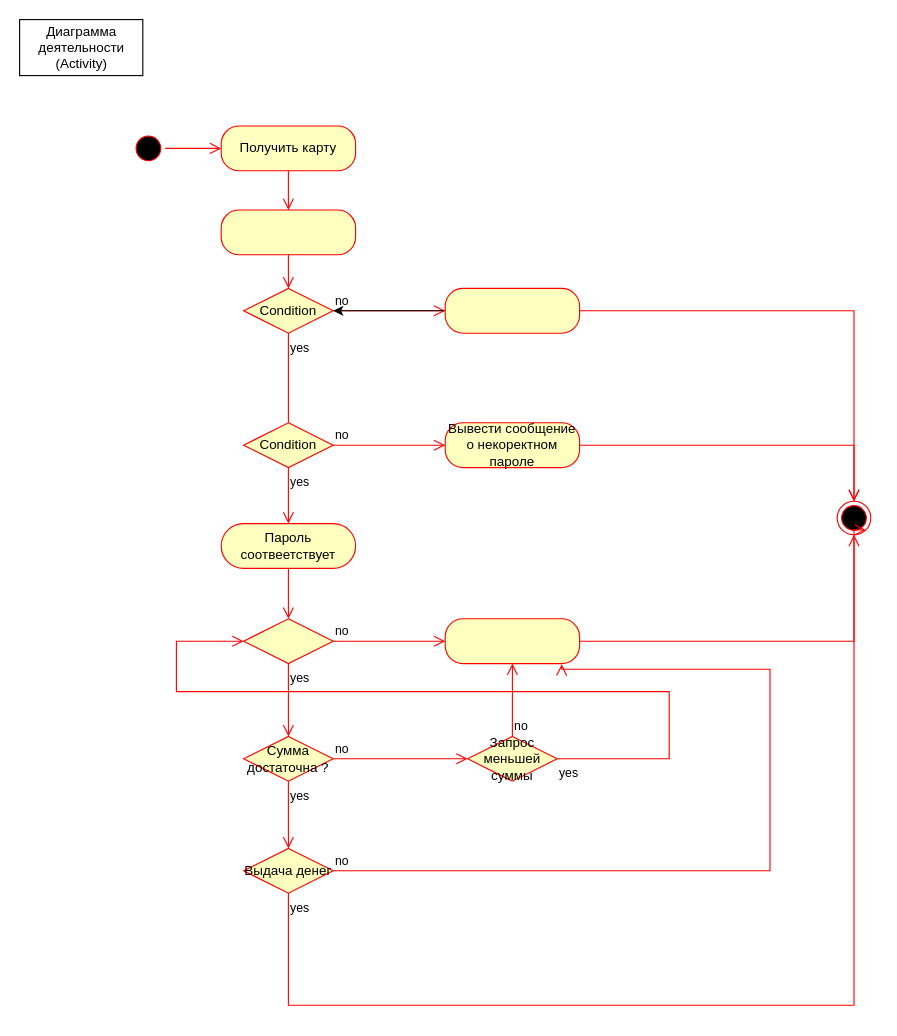
Some shapes in this 897 by 1036 pixel diagram are drawn without their labels. Here are the shapes that lost their labels. From the top down, the box of each, then its label:
(220, 209, 356, 255): Получить пароль
(444, 287, 580, 333): Вывести сообщение о некоректном карте
(242, 618, 333, 664): Проверка суммы
(444, 618, 580, 664): Выход
